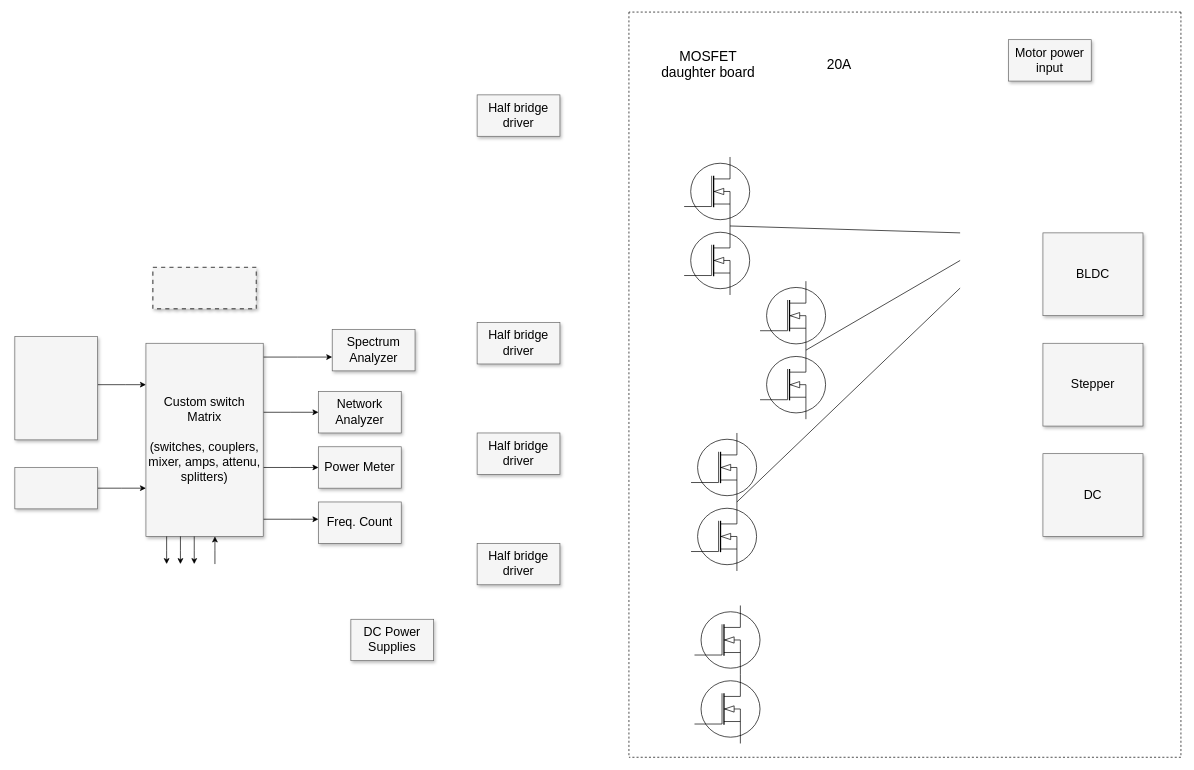
This 1194x770 diagram has some shape labels left out. The centre of each missing label's shape, as x and y in pixels:
ARB / Mod Source: the point at 56,489
Software Control: the point at 205,289
Vector Signal Generator: the point at 56,389
